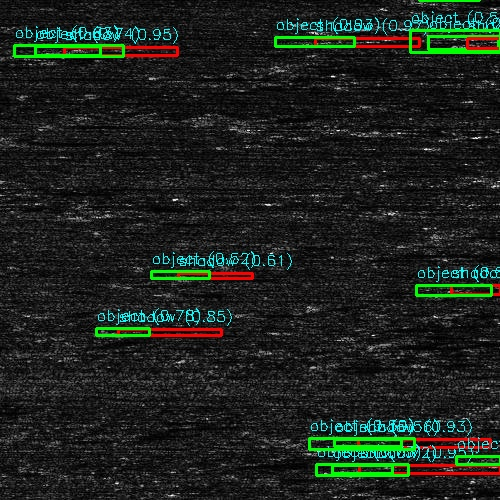rock: (406, 28, 500, 41), (346, 435, 409, 450), (21, 47, 126, 56), (276, 37, 349, 46), (428, 38, 500, 47), (91, 327, 132, 338), (455, 455, 500, 464), (335, 466, 388, 473), (433, 286, 474, 295), (416, 0, 479, 1)
shadow: (378, 435, 500, 450), (112, 327, 221, 338), (362, 466, 500, 473), (313, 37, 416, 46), (74, 47, 164, 56), (459, 28, 500, 41), (454, 286, 500, 295), (0, 112, 12, 117), (448, 0, 500, 1)
